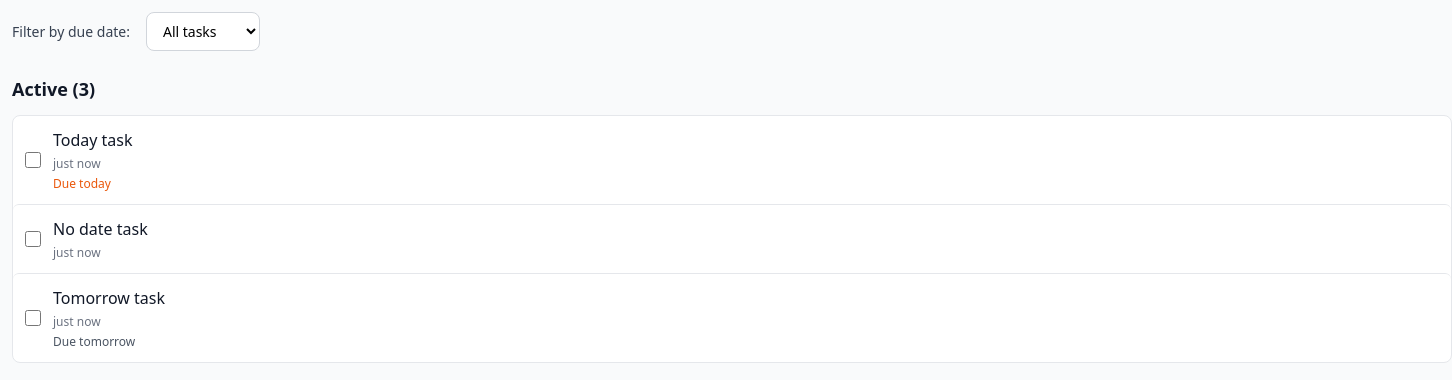
Test: TaskList › should_filter_by_due_date_today
The image size is (1452, 380).
Select "Due today" in the dropdown labelled "Filter by due date:" at point(203, 32), box [146,12,260,51]
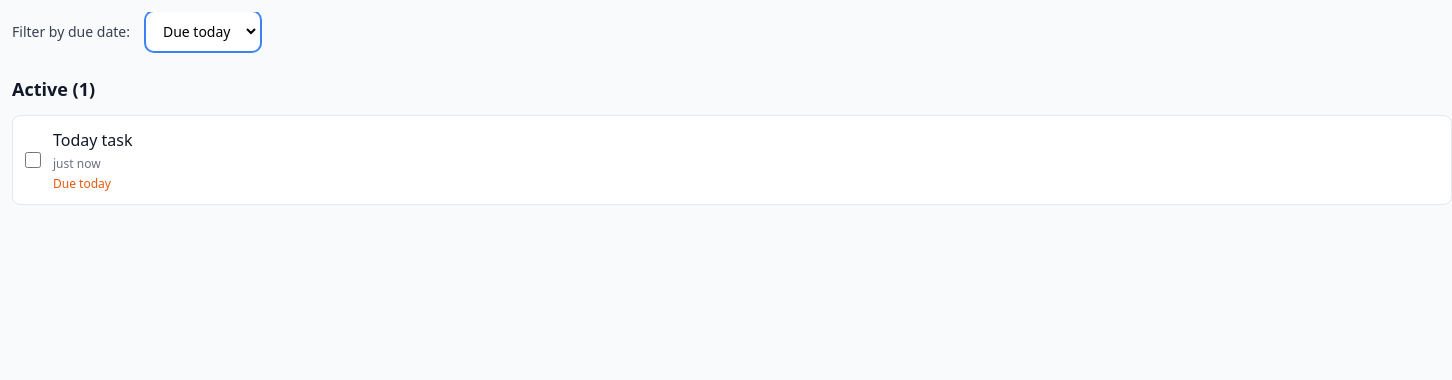
Expected: the text "Today task" is shown, [53,129,133,151]
Result: the text "No date task" is gone
Result: the text "Tomorrow task" is gone
